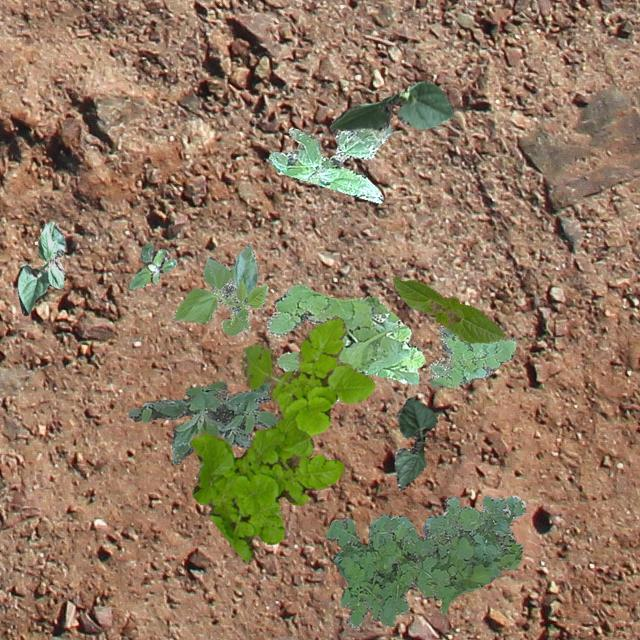crop: (172, 243, 268, 334), (392, 276, 502, 342), (328, 80, 452, 130), (16, 220, 64, 314), (394, 396, 436, 488)
weed: (186, 316, 374, 560), (324, 494, 524, 628), (266, 284, 424, 384), (128, 381, 278, 464), (266, 122, 392, 202), (428, 326, 516, 386), (128, 242, 176, 288)
